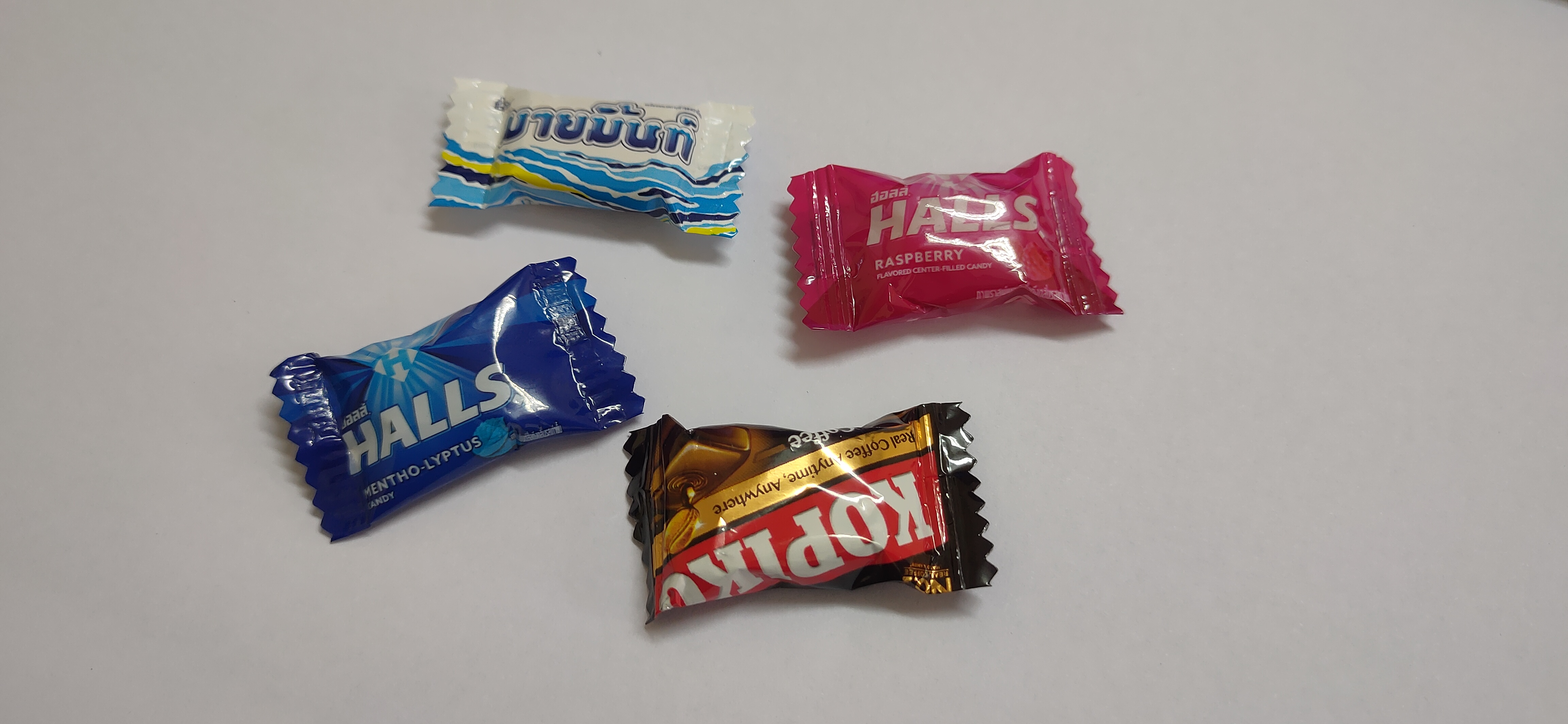plastic: (214, 225, 670, 579), (586, 380, 1013, 633), (777, 124, 1168, 369), (393, 52, 777, 277)
